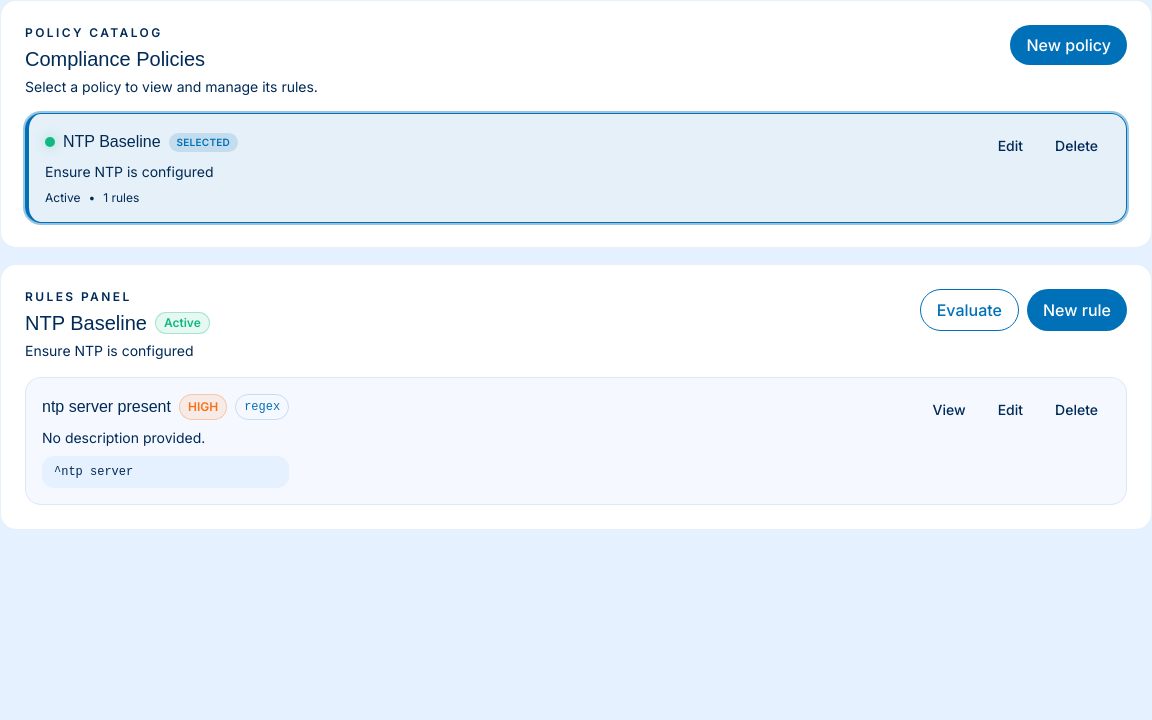
it: CompliancePoliciesPage › renders rules for the selected policy and queues evaluation
This screenshot has width=1152, height=720.
Expected: the heading "NTP Baseline" next to "Selected" is shown, 63,133 -> 160,150
Expected: the heading "ntp server present" is shown, 42,395 -> 171,419
Click the button "Evaluate" at (969, 310), box 920,289 -> 1019,331
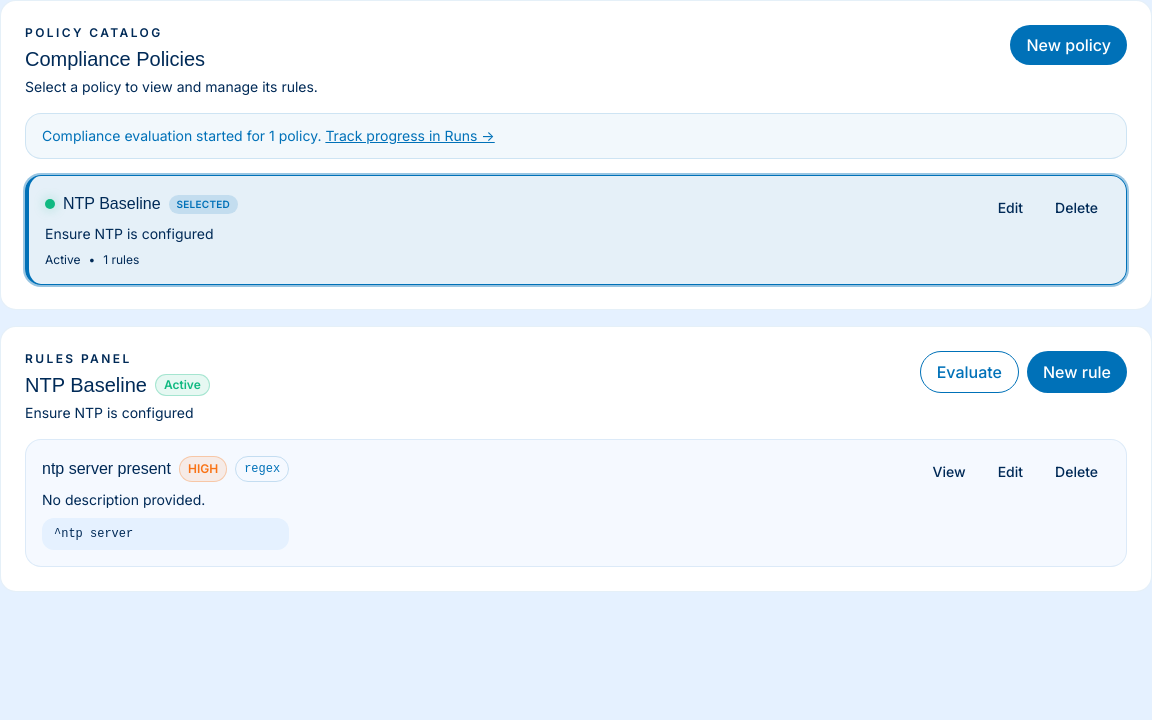
Expected: the text "Compliance evaluation started for 1 policy" is shown, 42,127 -> 495,144
